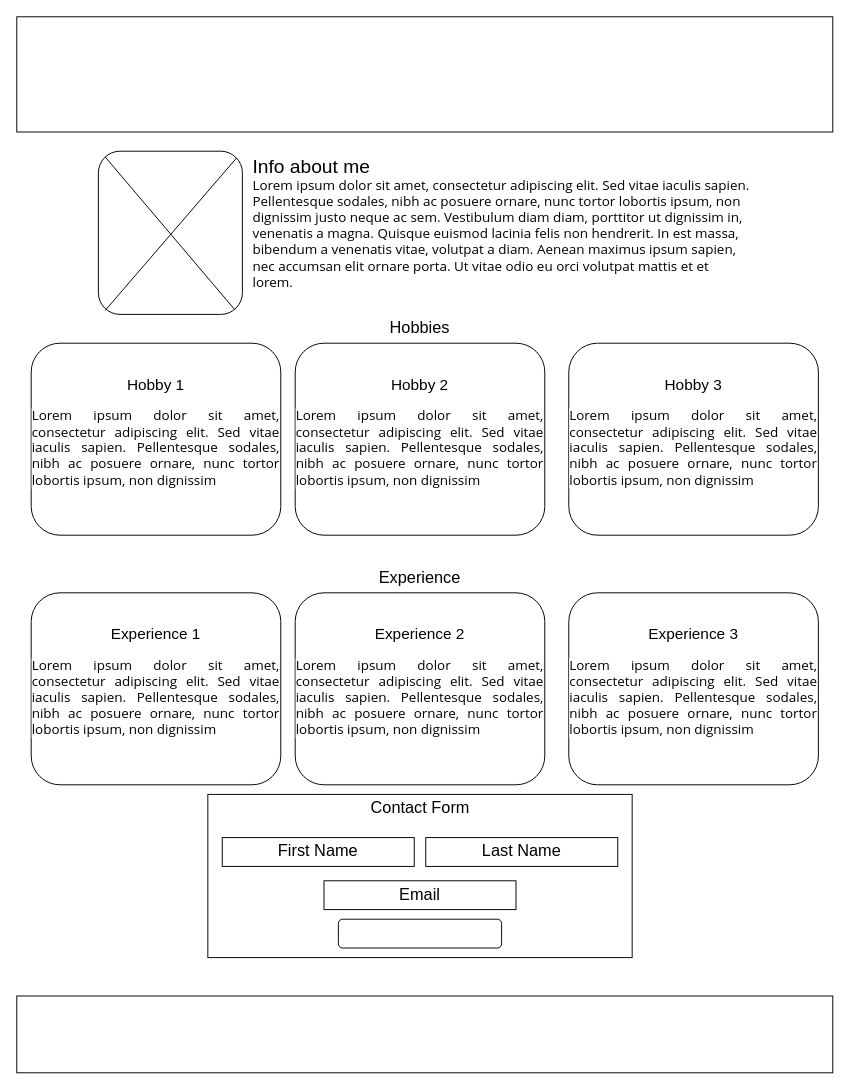
This 850x1090 diagram has some shape labels left out. Here are the shapes that lost their labels. From the top down, the centre of each, then its label:
(x=424, y=74): Header
(x=169, y=232): Profile Picture
(x=419, y=933): Send Message Button
(x=424, y=1034): Footer
